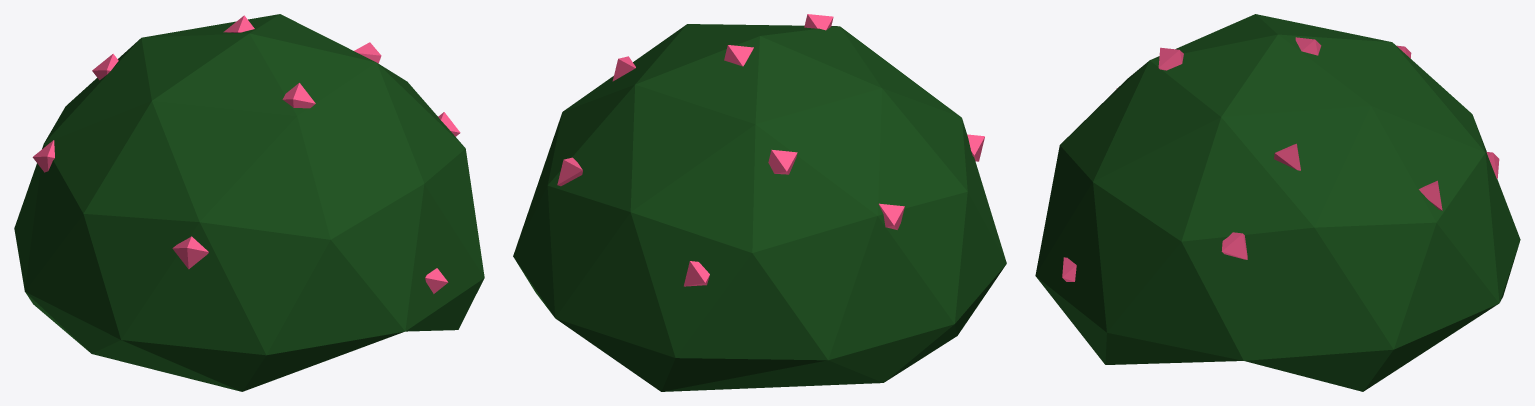
The model's file is Berry Bush 1.glb.
The picture shows the model from 3 angles, left to right: view 1: azimuth 30°, elevation 25°; view 2: azimuth 150°, elevation 25°; view 3: azimuth 270°, elevation 25°; orthographic projection.
Parts seen in each view (by area): view 1: Berry Bush 1; view 2: Berry Bush 1; view 3: Berry Bush 1.
Part boxes in pixels (<box>): Berry Bush 1: <box>14,14,484,391</box>; Berry Bush 1: <box>513,14,1006,391</box>; Berry Bush 1: <box>1035,14,1520,391</box>.
Bounding box in the file's own units: 0.5943 × 0.3637 × 0.5909.
